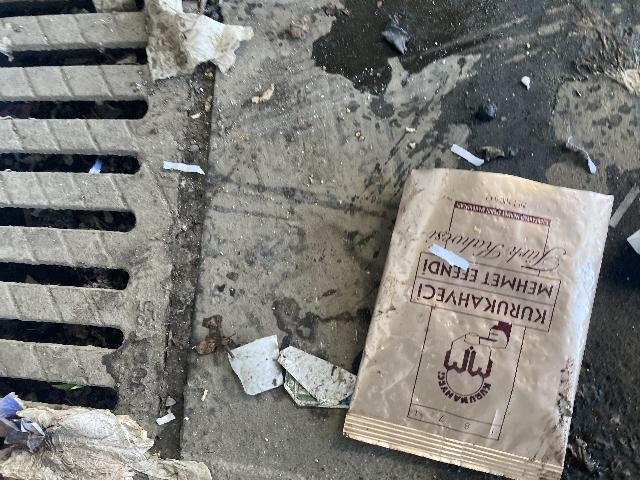Kagit: (141, 6, 230, 78), (281, 346, 346, 414), (235, 335, 298, 397)
Plastik: (344, 181, 621, 454)
